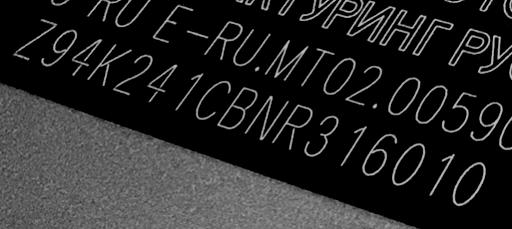letter: (9, 15, 59, 62), (270, 101, 316, 152), (216, 84, 262, 133), (241, 95, 289, 140), (110, 51, 156, 97), (86, 42, 134, 86), (448, 159, 490, 209), (301, 113, 343, 162), (360, 130, 400, 179), (192, 77, 234, 122), (390, 140, 430, 187), (336, 119, 372, 169), (425, 148, 457, 201), (168, 72, 208, 114), (144, 60, 182, 104), (41, 26, 81, 67), (66, 37, 106, 77)
